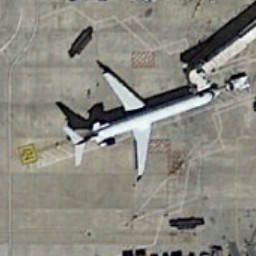Airplane: (48, 60, 229, 195)
